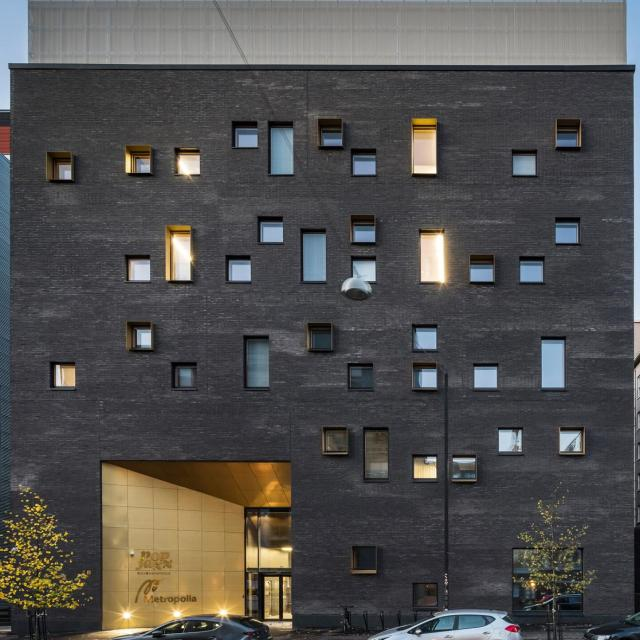door: (244, 571, 292, 620)
plant: (0, 487, 97, 613), (512, 493, 599, 600)
wall: (8, 3, 636, 632)
windows: (512, 552, 584, 617), (245, 512, 292, 574), (245, 339, 269, 389), (364, 430, 388, 480), (411, 129, 437, 175), (420, 234, 444, 283), (541, 340, 564, 390), (270, 129, 294, 175), (303, 236, 325, 282), (171, 232, 190, 282), (411, 582, 440, 610), (353, 547, 375, 575), (412, 456, 438, 479), (52, 365, 76, 389), (173, 366, 197, 390), (473, 367, 497, 390), (499, 430, 522, 454), (351, 261, 376, 283), (228, 260, 252, 282), (325, 430, 347, 454), (558, 431, 582, 453), (554, 224, 578, 246), (128, 259, 150, 282), (453, 458, 476, 480), (412, 369, 437, 389), (414, 329, 437, 350), (512, 156, 536, 176), (468, 264, 492, 283), (521, 262, 542, 283), (260, 224, 282, 244), (352, 156, 374, 176), (350, 369, 372, 389), (235, 130, 258, 148), (51, 160, 71, 180), (130, 153, 150, 173), (353, 225, 374, 243), (134, 329, 152, 348), (312, 332, 331, 350), (322, 131, 342, 148), (558, 132, 578, 148)
